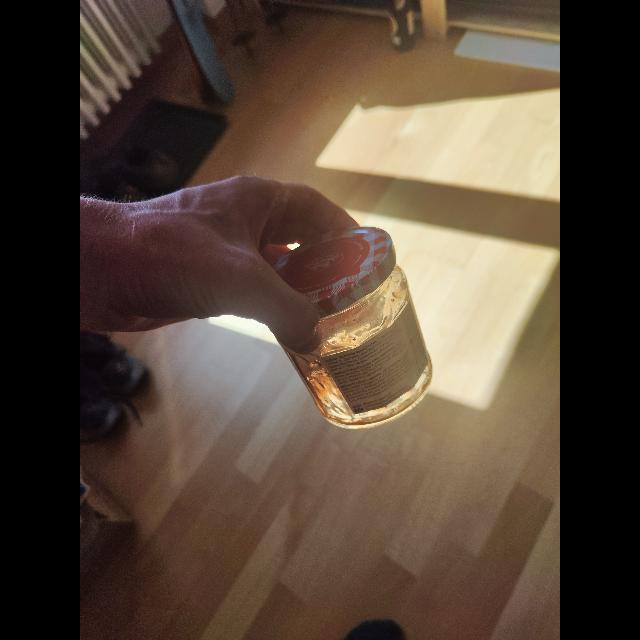Glass: (259, 228, 439, 432)
Metal: (271, 227, 399, 315)
